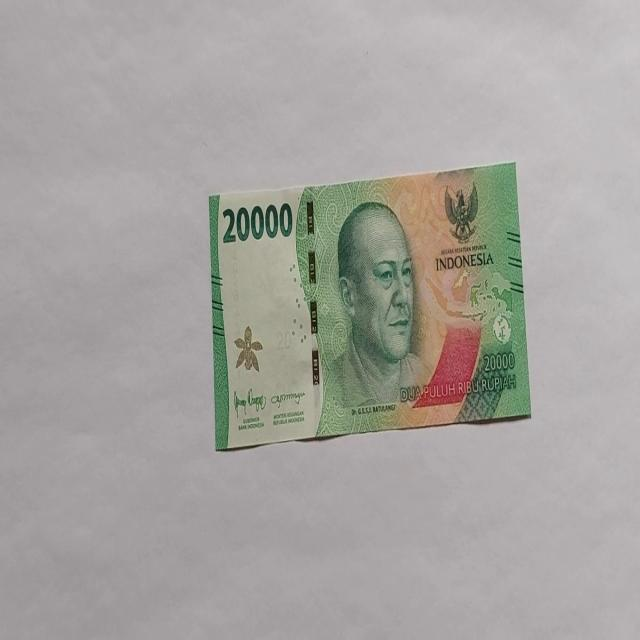dua puluh ribu rupiah: (208, 160, 532, 452), (316, 198, 434, 434)
